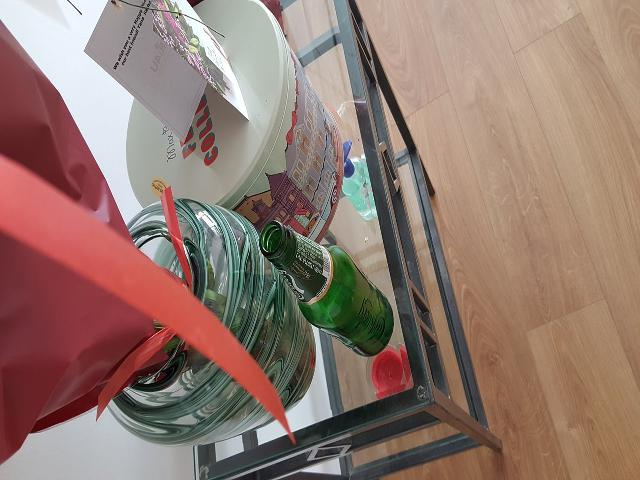beer: (260, 221, 393, 358)
